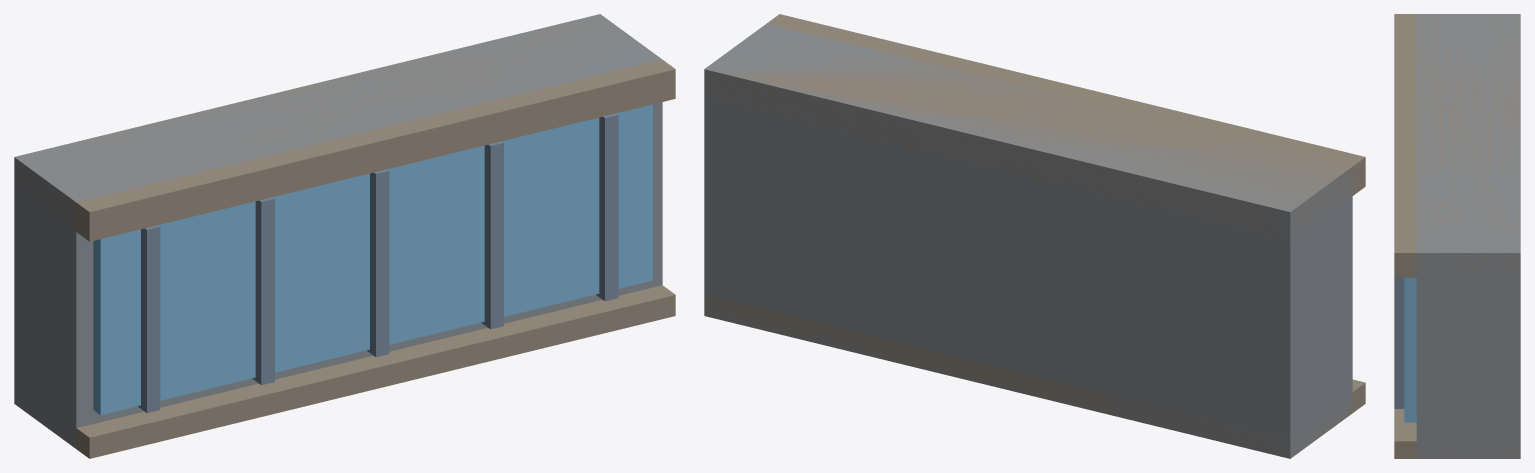
File: cittaArdesiaPianoA.glb
3 renders of one model, left to right at view 1: azimuth 30°, elevation 25°; view 2: azimuth 150°, elevation 25°; view 3: azimuth 270°, elevation 25°, orthographic. The views are drawn at different scales.
Visible parts, largest first — view 1: cittaArdesiaPianoA_glass, cittaArdesiaPianoA_concreteDark, cittaArdesiaPianoA_cittaArdesia, cittaArdesiaPianoA_steel; view 2: cittaArdesiaPianoA_cittaArdesia, cittaArdesiaPianoA_concreteDark; view 3: cittaArdesiaPianoA_cittaArdesia, cittaArdesiaPianoA_concreteDark, cittaArdesiaPianoA_glass, cittaArdesiaPianoA_steel.
Part boxes in pixels (left/top/right/bottom): cittaArdesiaPianoA_glass: left=93, top=104, right=652, bottom=415; cittaArdesiaPianoA_concreteDark: left=14, top=14, right=675, bottom=458; cittaArdesiaPianoA_cittaArdesia: left=14, top=14, right=662, bottom=448; cittaArdesiaPianoA_steel: left=138, top=113, right=618, bottom=412; cittaArdesiaPianoA_cittaArdesia: left=704, top=23, right=1352, bottom=458; cittaArdesiaPianoA_concreteDark: left=704, top=14, right=1365, bottom=458; cittaArdesiaPianoA_cittaArdesia: left=1416, top=14, right=1520, bottom=458; cittaArdesiaPianoA_concreteDark: left=1394, top=14, right=1520, bottom=458; cittaArdesiaPianoA_glass: left=1404, top=277, right=1416, bottom=422; cittaArdesiaPianoA_steel: left=1394, top=277, right=1404, bottom=408.
Size of the model in its own units: 8.7 by 3.5 by 1.94.
